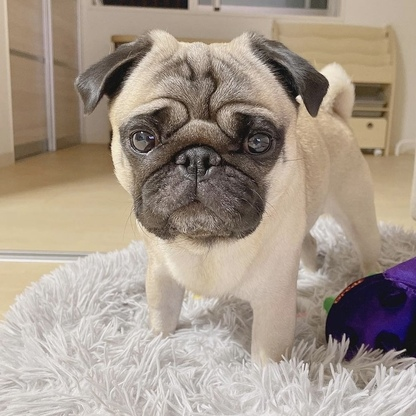Pug: (70, 26, 386, 371)
